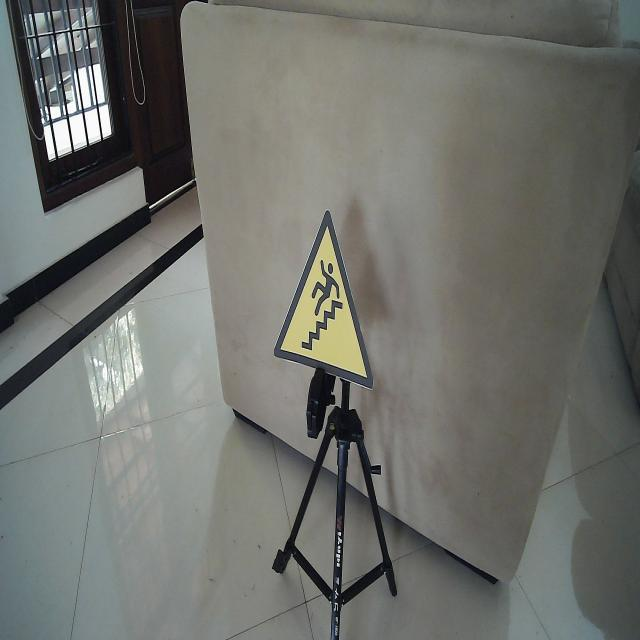stairs: (272, 206, 376, 392)
